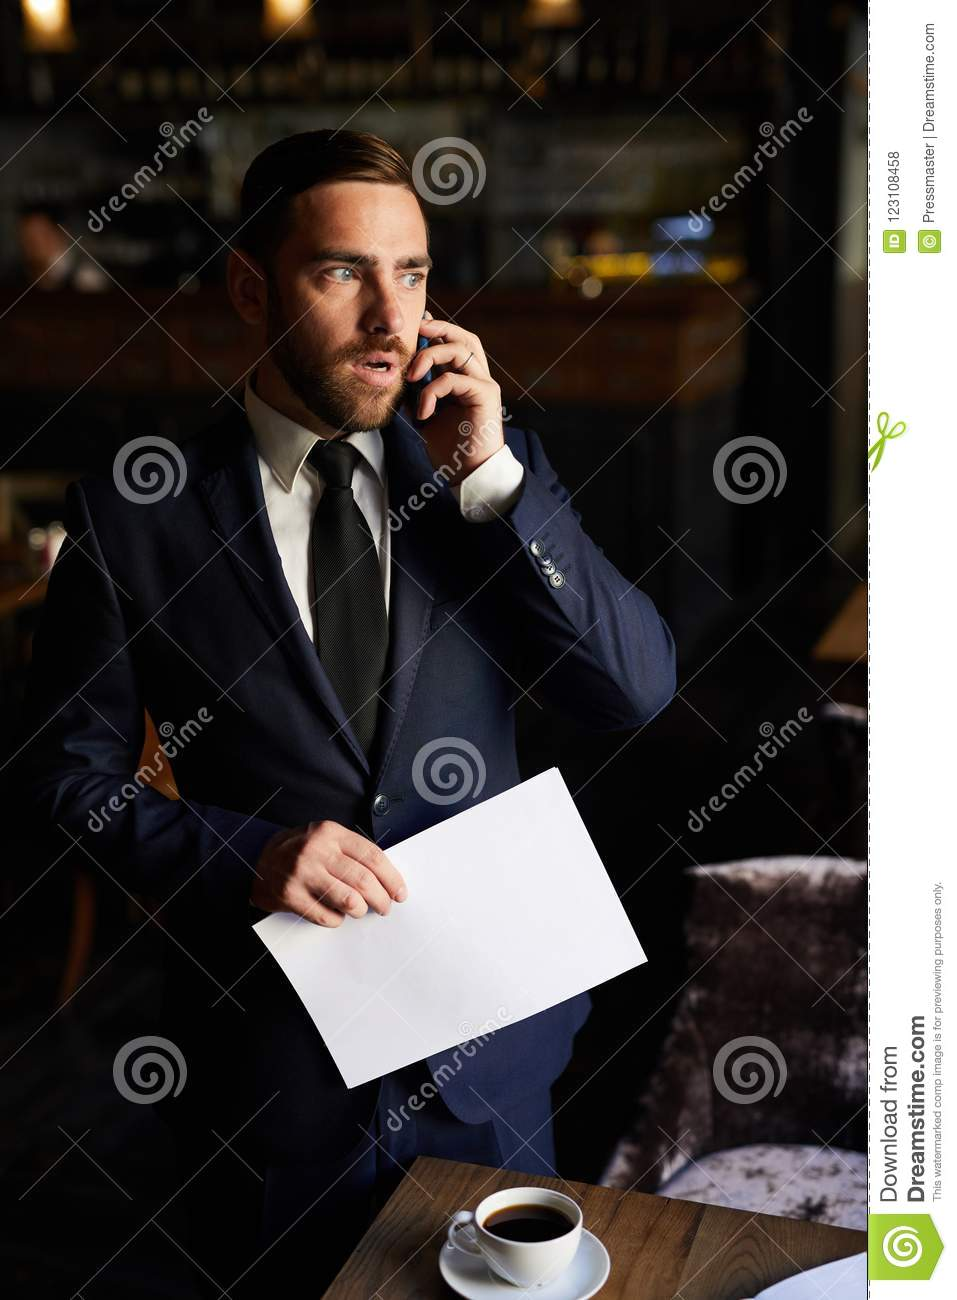phone: (408, 298, 444, 428)
talk: (302, 231, 504, 475)
